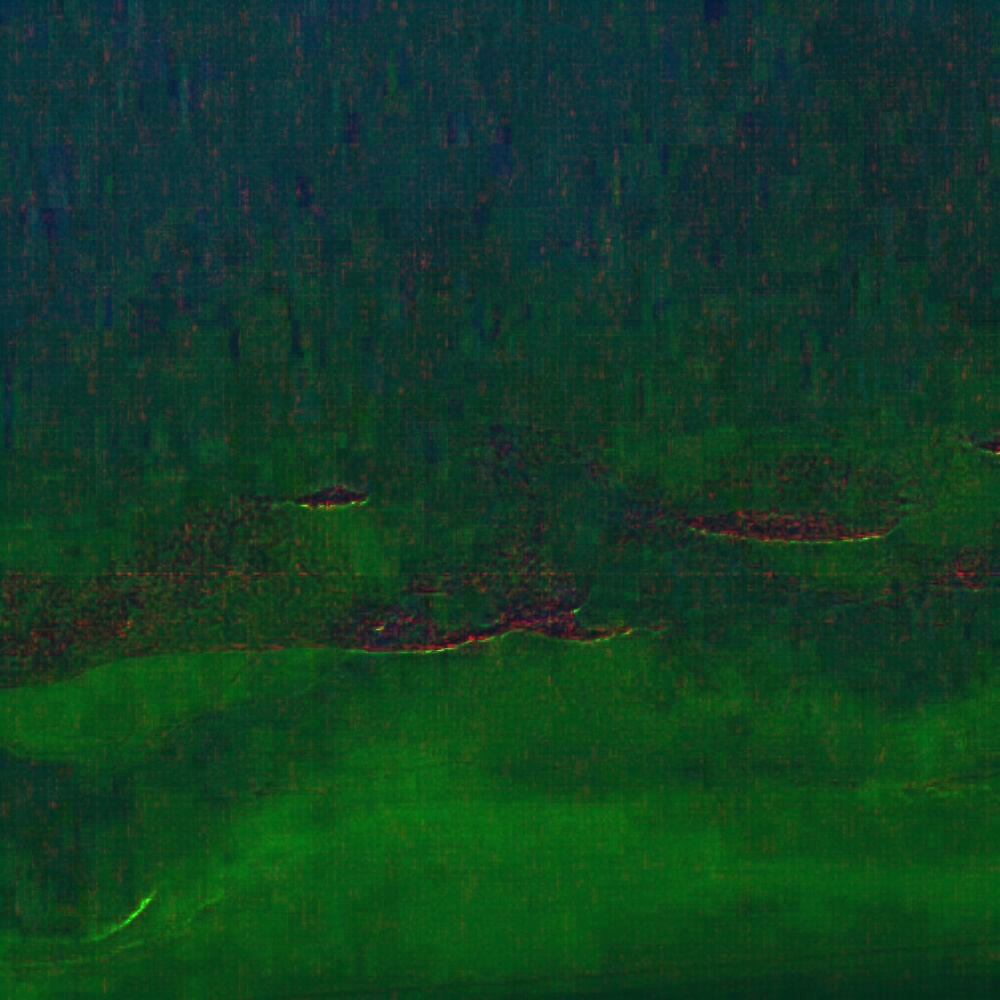rip_current: (349, 406, 638, 648)
